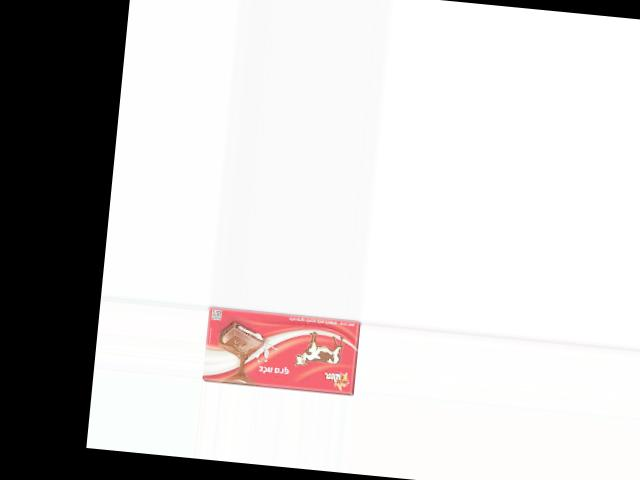chocolate: (202, 305, 363, 396)
